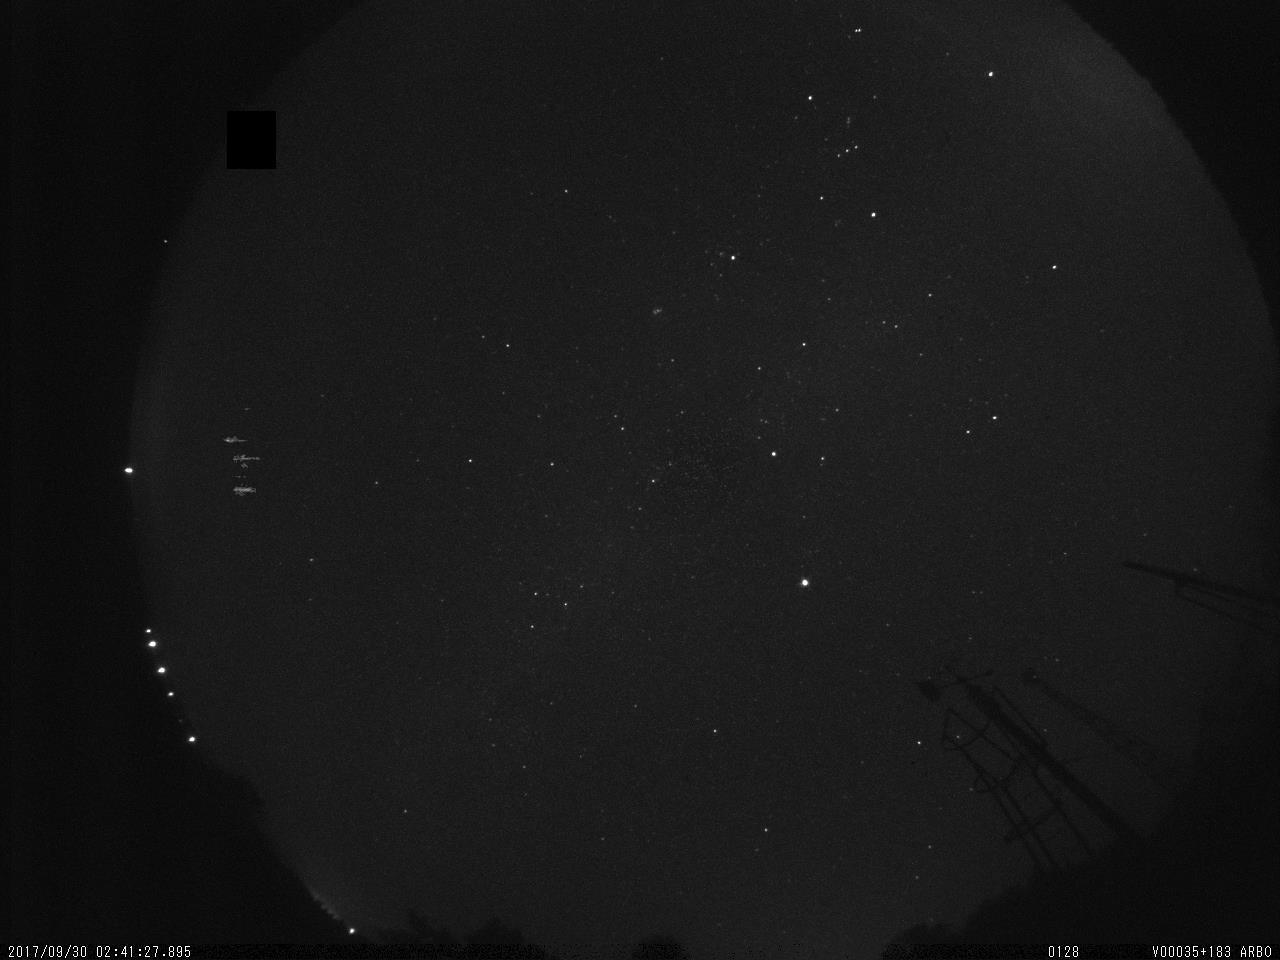TLE: (209, 393, 279, 520)
